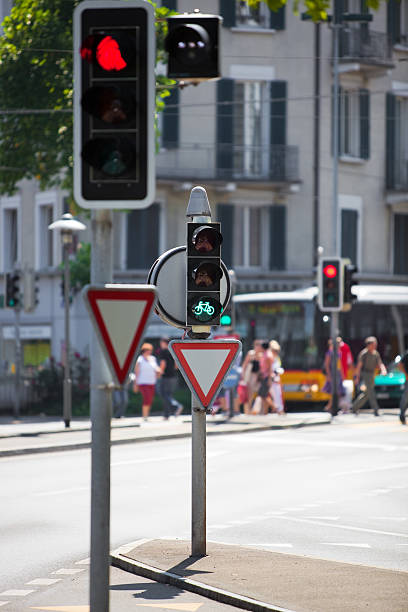trafficlight: (81, 10, 157, 196), (187, 220, 225, 333), (318, 259, 343, 310)
